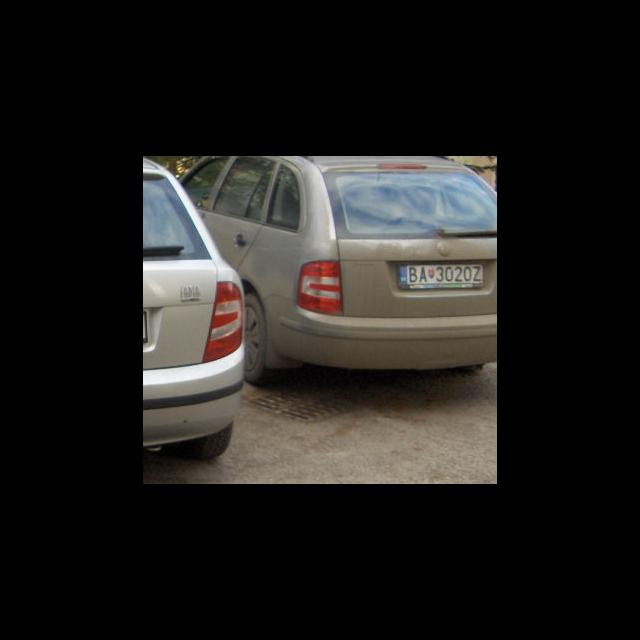Plate: (396, 261, 485, 289)
